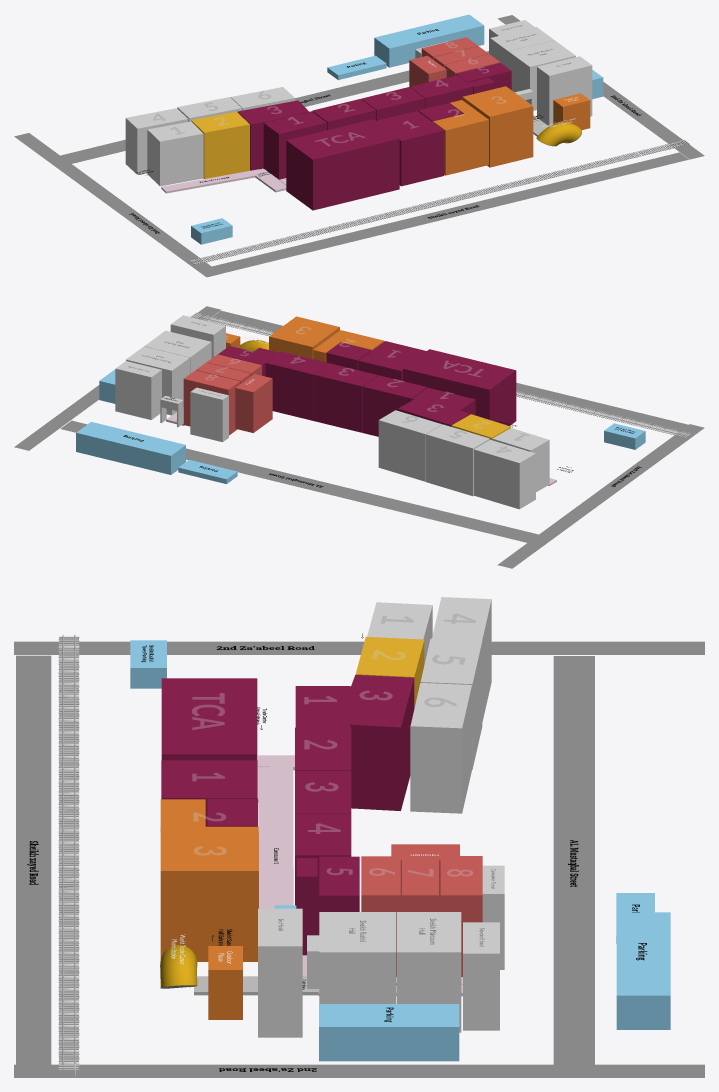
File: world trade center.fbx
3 renders of one model, top to bottom at view 1: azimuth 30°, elevation 25°; view 2: azimuth 150°, elevation 25°; view 3: azimuth 270°, elevation 25°, orthographic. The views are drawn at different scales.
Parts seen in each view (by area): view 1: Plane; view 2: Plane; view 3: Plane.
Part boxes in pixels (<box>): Plane: <box>14,14,704,277</box>; Plane: <box>14,306,704,568</box>; Plane: <box>14,597,704,1077</box>.
Size of the model in its own units: 2078 by 212 by 1375.
